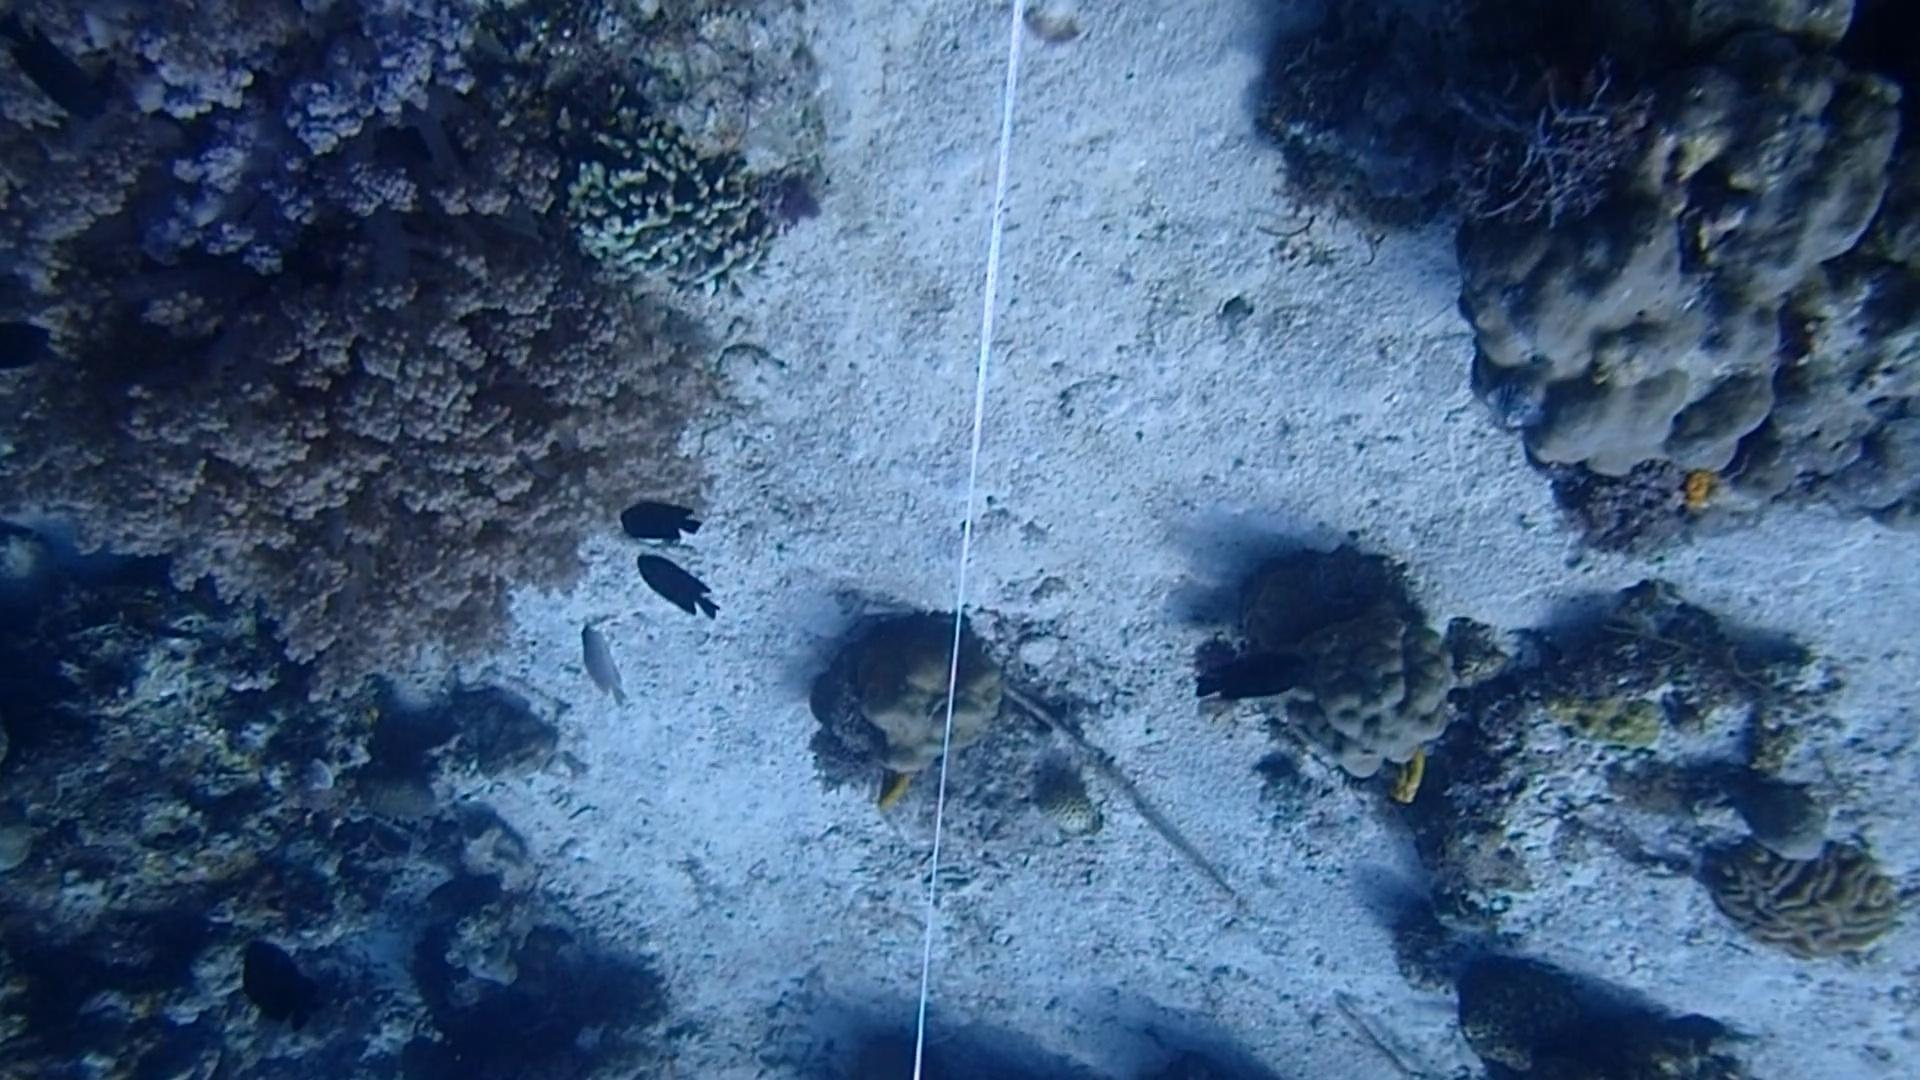Dark Fish: (0, 20, 111, 140), (622, 541, 737, 632), (595, 479, 713, 563), (237, 934, 324, 1043), (1207, 653, 1317, 712)
Light Fish: (555, 615, 641, 709)
